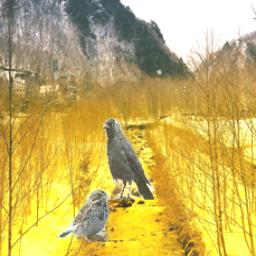Crow: (104, 119, 157, 201)
Sparrow: (57, 189, 111, 243)
